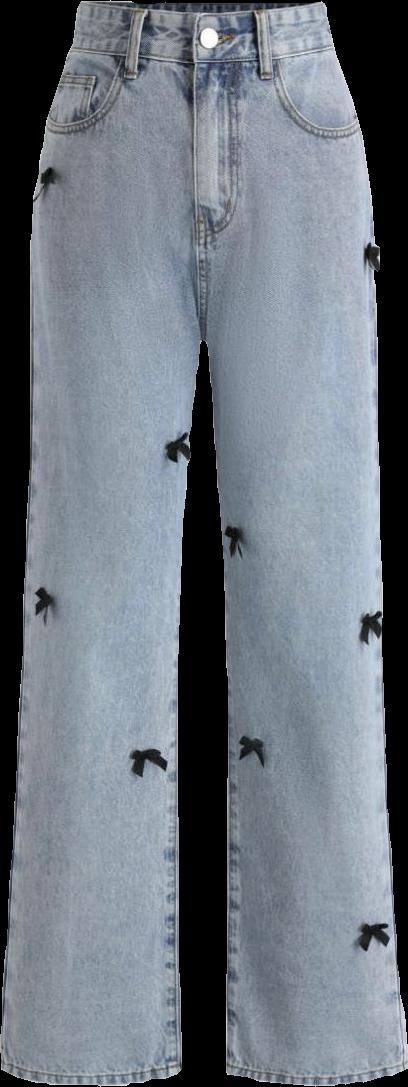Hemline: (2, 1061, 186, 1086), (221, 1061, 407, 1085)
Pantleg: (187, 0, 407, 1083), (0, 0, 209, 1083)
Waistline: (65, 40, 338, 70), (72, 0, 325, 19)
